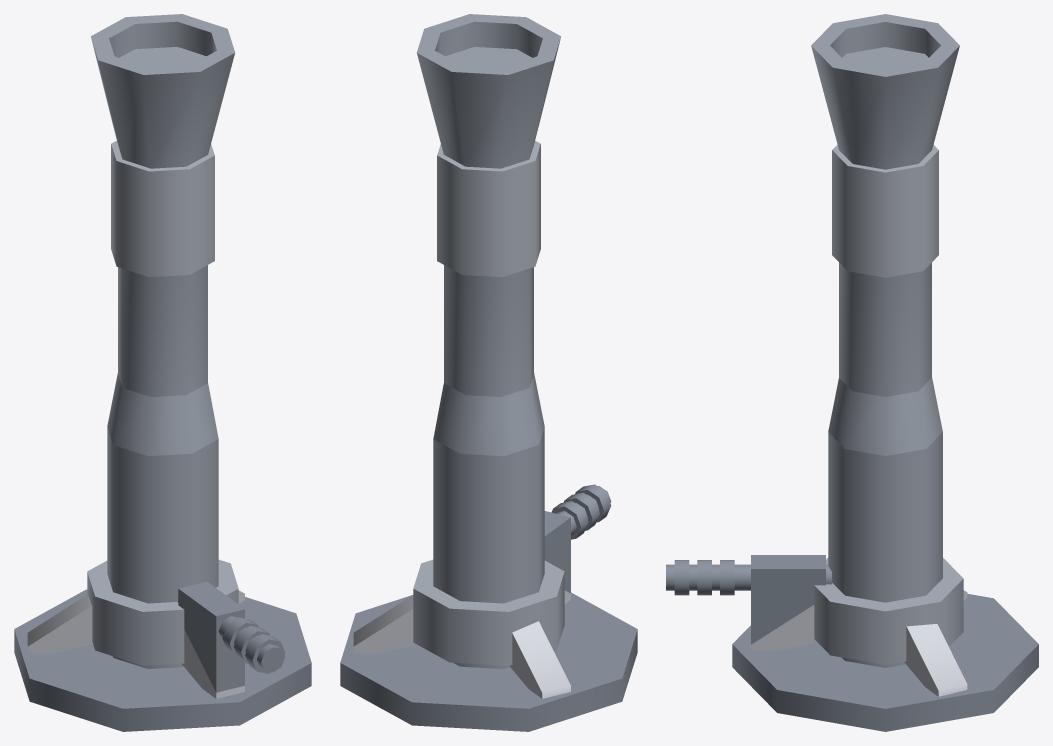
The model's file is heating_equipment_bunsen_burner.glb.
The picture shows the model from 3 angles, left to right: view 1: azimuth 30°, elevation 25°; view 2: azimuth 150°, elevation 25°; view 3: azimuth 270°, elevation 25°; orthographic projection.
Parts seen in each view (by area): view 1: heating_equipment_bunsen_burner; view 2: heating_equipment_bunsen_burner; view 3: heating_equipment_bunsen_burner.
Boxes of the visible parts, box(x1,y1,x2,y2) form: heating_equipment_bunsen_burner: box(14, 14, 311, 731); heating_equipment_bunsen_burner: box(340, 14, 637, 731); heating_equipment_bunsen_burner: box(666, 14, 1038, 731).
Bounding box in the file's own units: 0.1162 × 0.26 × 0.1413.
1 material, 1 textured.
